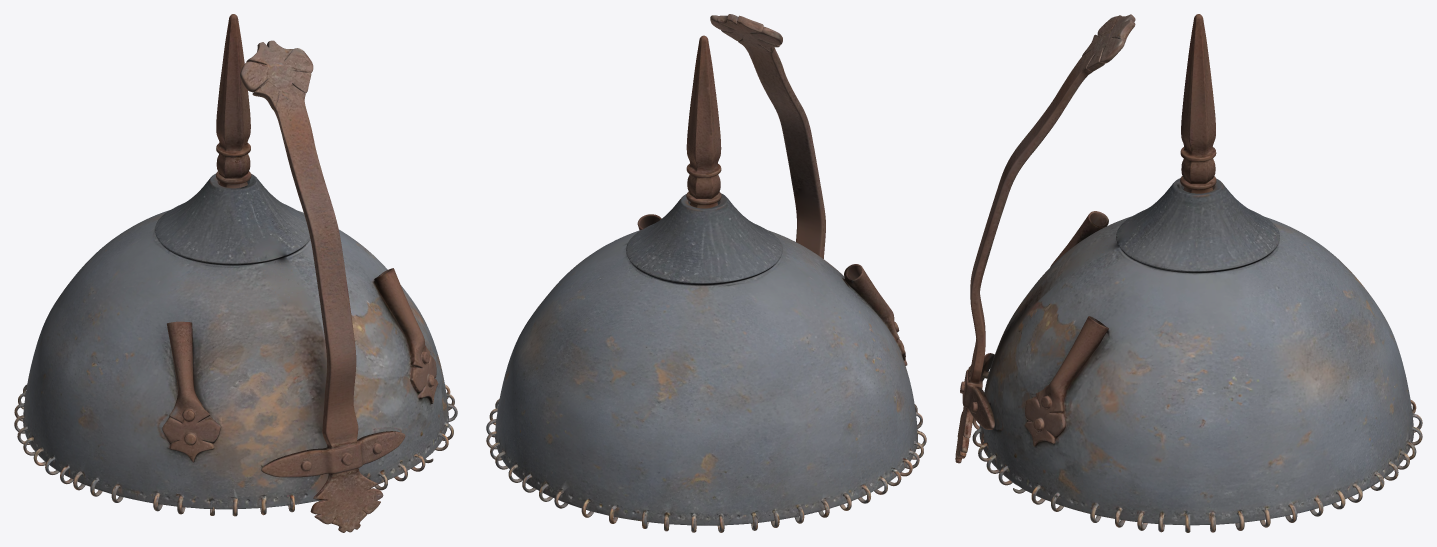
File: 003-ostrokonechnyy-boevoy-shlem.glb
3 renders of one model, left to right at view 1: azimuth 30°, elevation 25°; view 2: azimuth 150°, elevation 25°; view 3: azimuth 270°, elevation 25°, orthographic. The views are drawn at different scales.
Visible parts, largest first — view 1: node_0; view 2: node_0; view 3: node_0.
Part boxes in pixels (<box>): node_0: <box>14,14,457,532</box>; node_0: <box>486,14,926,532</box>; node_0: <box>955,14,1422,532</box>.
Bounding box in the file's own units: 0.8152 × 0.8725 × 0.8273.
Materials: 1 (1 with a texture image).
